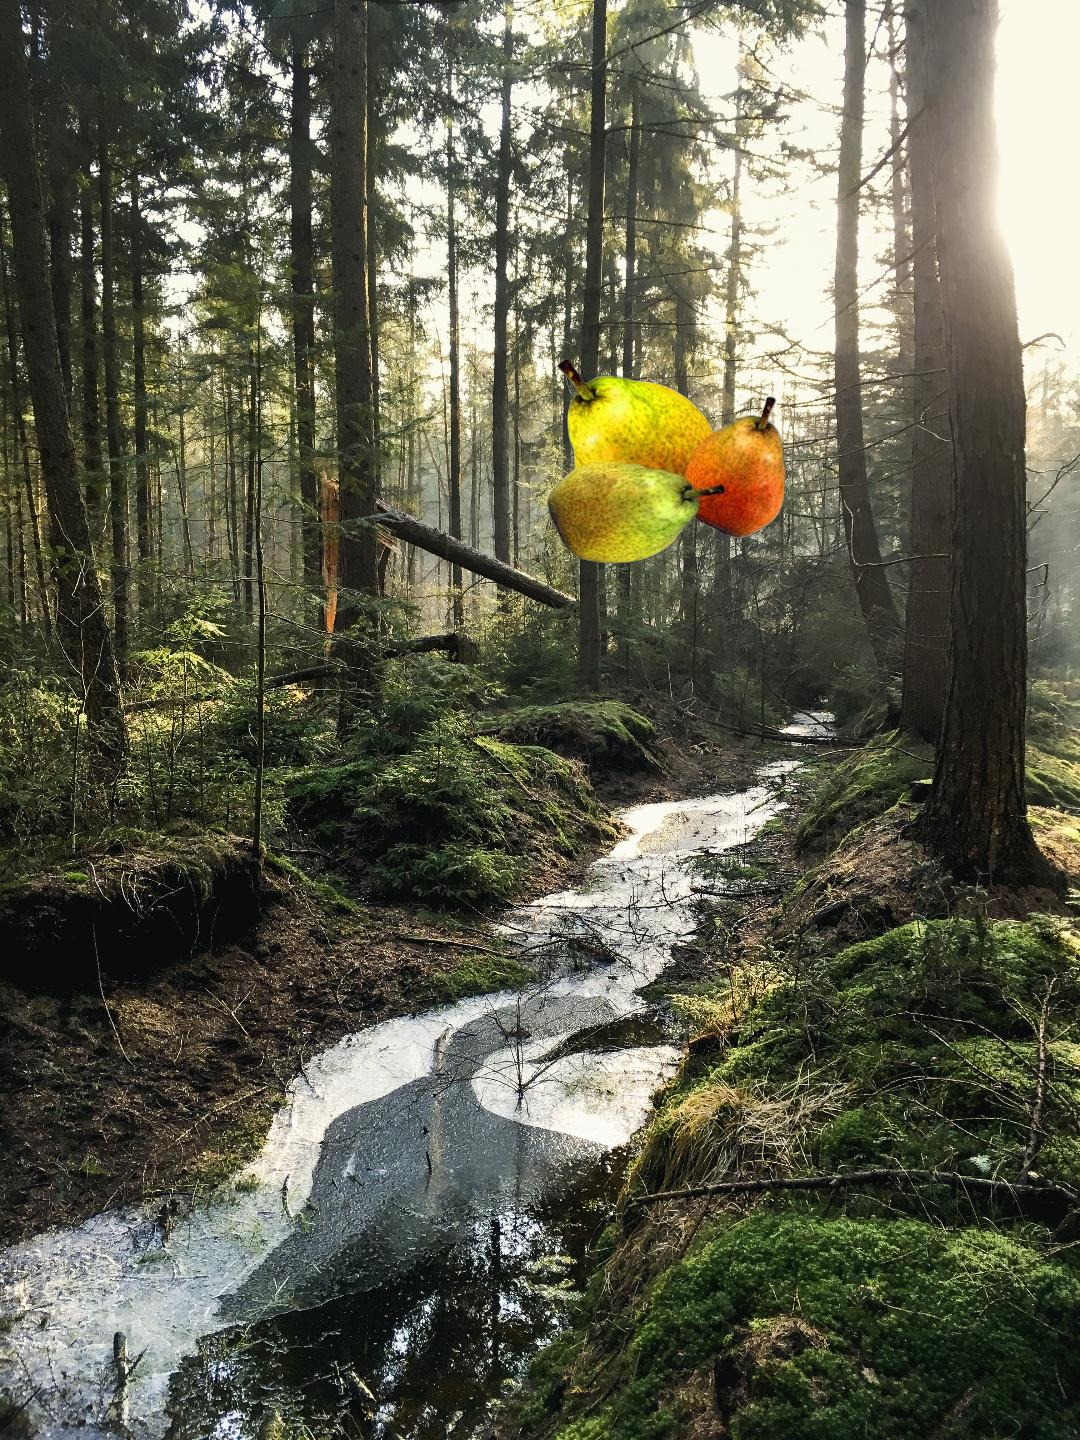biological: (546, 357, 786, 564)
